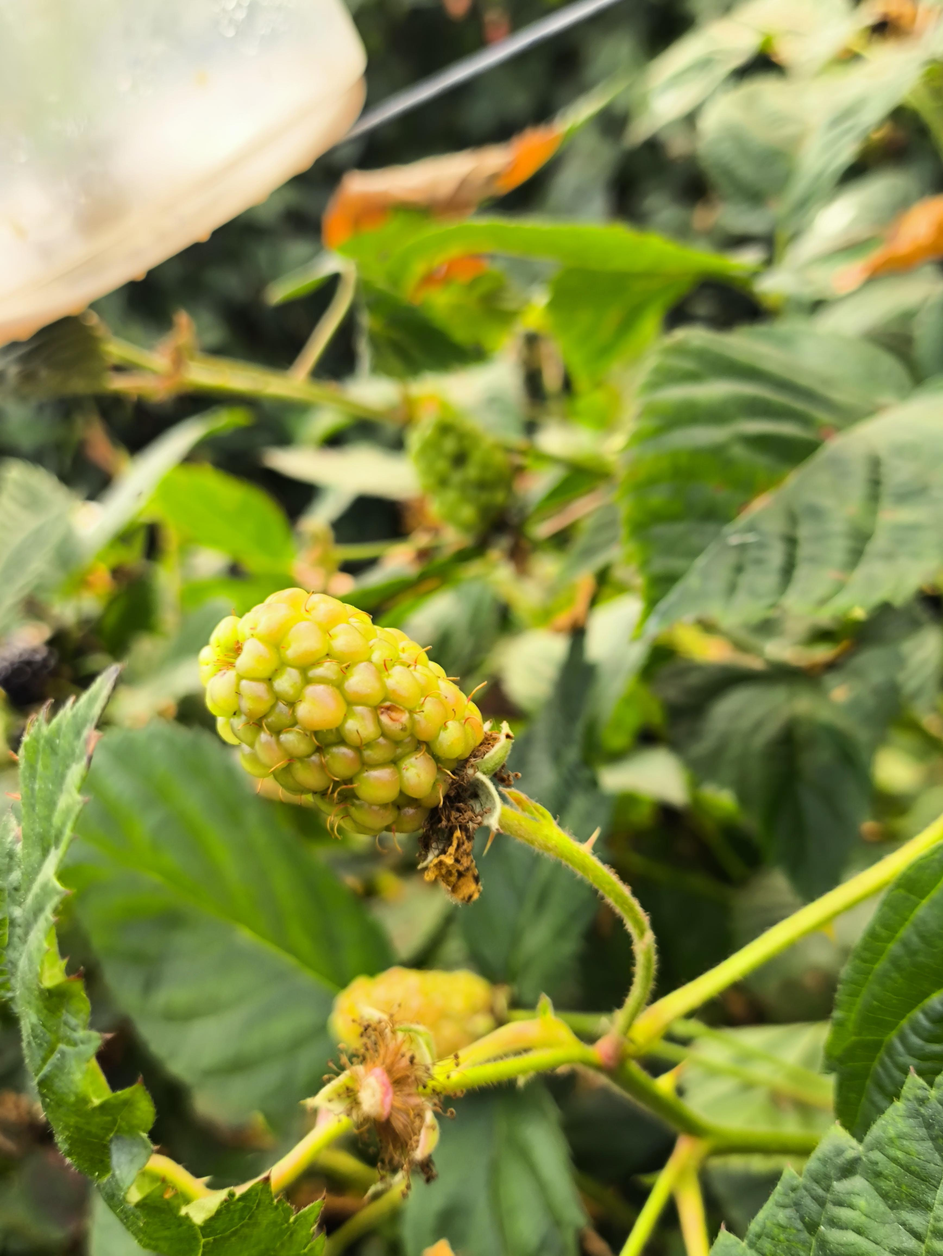verde: (201, 590, 484, 837)
